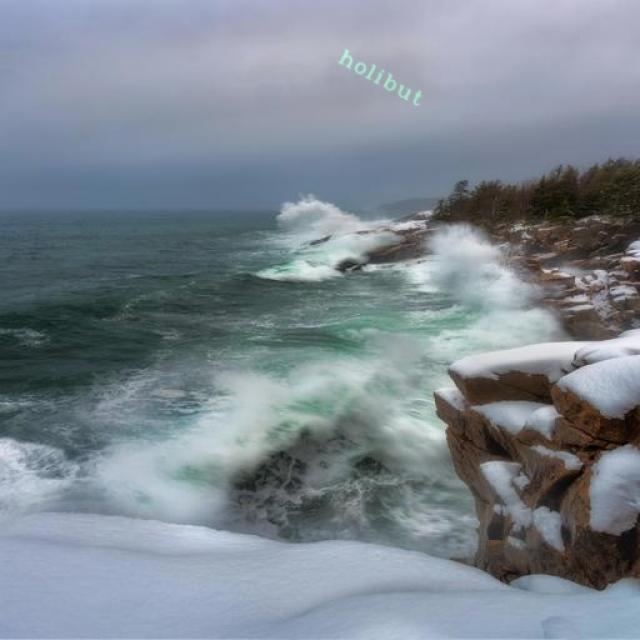watermark: (331, 44, 434, 110)
